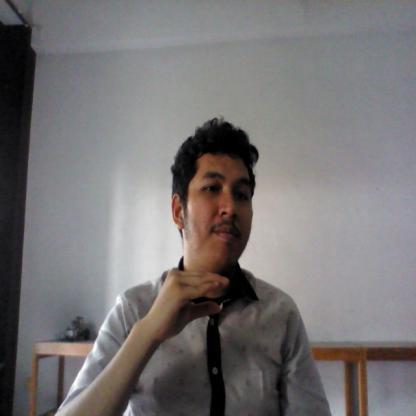Pagi: (138, 256, 235, 346)
